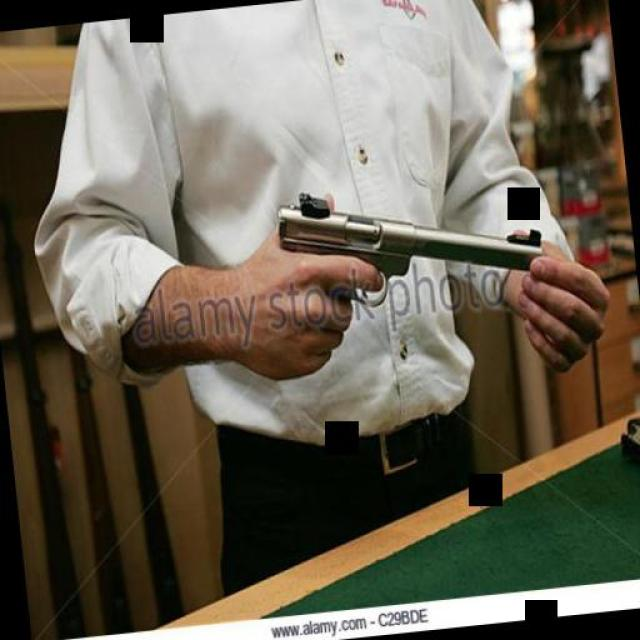gun: (262, 152, 552, 390)
